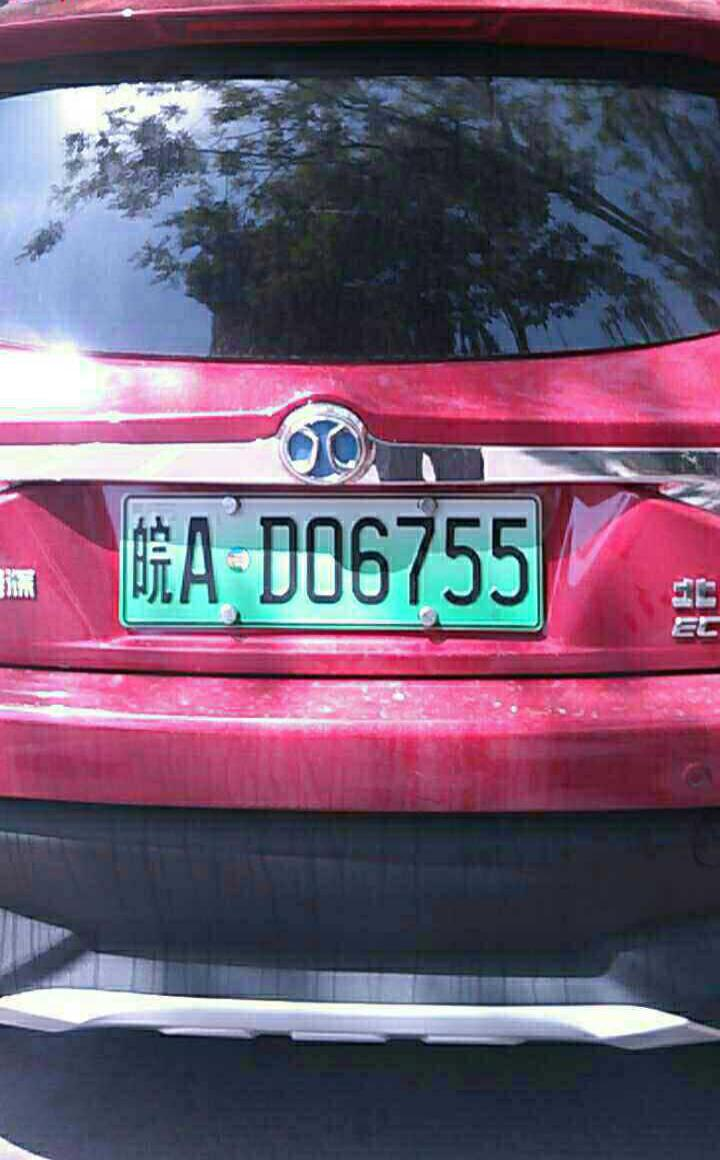car: (95, 494, 553, 643)
